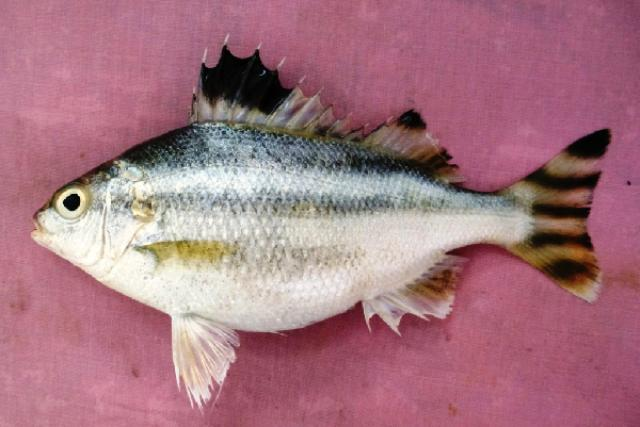Mulut: (18, 200, 70, 266)
Sirip Anal: (364, 252, 474, 338)
Sirip Dada: (131, 220, 251, 288)
Sirip Ekor: (498, 118, 620, 312)
Sirip Perut: (164, 305, 244, 422)
Sirip Punggung: (180, 28, 470, 186)
